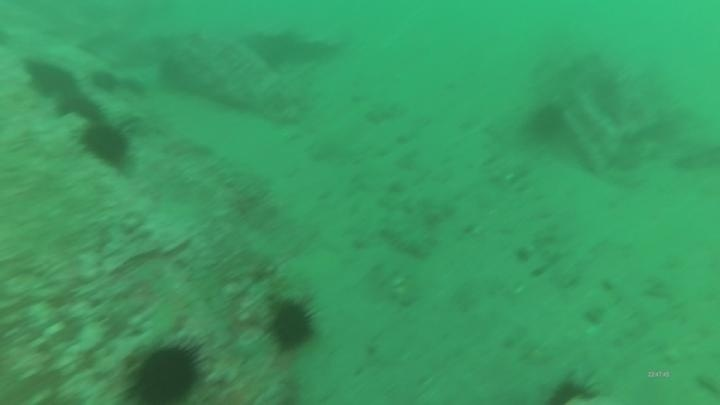echinus: (125, 337, 208, 405), (265, 294, 321, 354), (78, 120, 134, 169), (542, 371, 604, 405), (524, 100, 568, 142), (54, 91, 107, 124), (33, 67, 77, 100), (88, 67, 122, 97), (20, 59, 47, 76)
holothurian: (378, 222, 435, 260)
